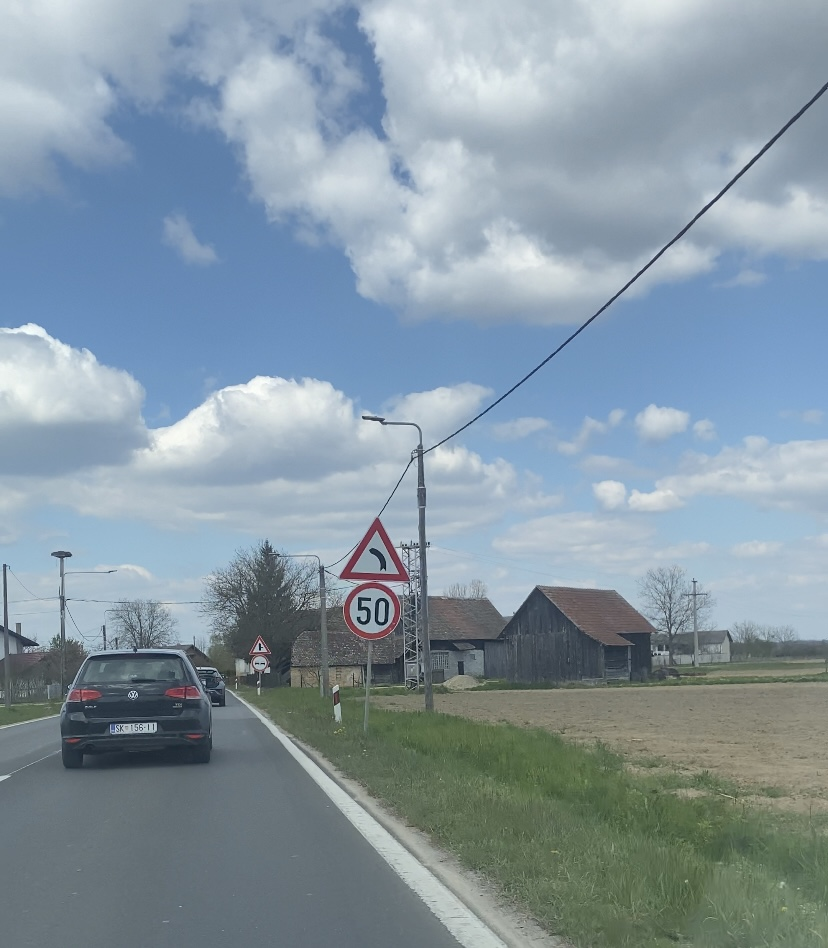Ograničenje brzine 50: (343, 582, 401, 640)
Zabrana pretjecanja: (251, 654, 268, 672)
